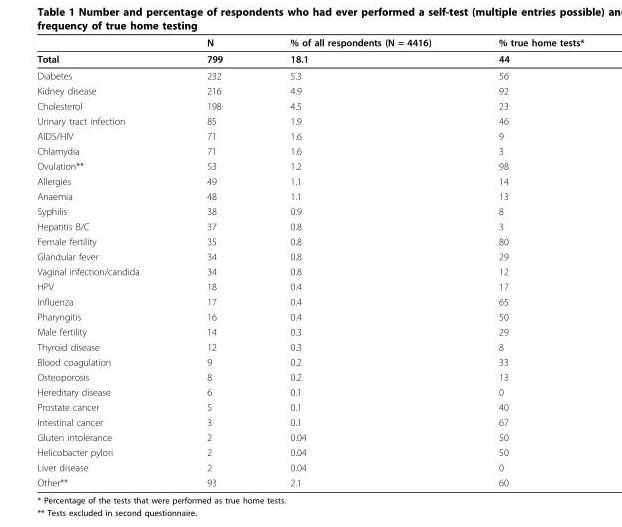table: (36, 36, 583, 487)
table column: (255, 36, 464, 487), (36, 36, 172, 487), (464, 36, 583, 487), (172, 36, 255, 487)
table column header: (36, 36, 583, 50)
table row: (36, 50, 583, 67), (36, 82, 583, 98), (36, 323, 583, 339), (36, 67, 583, 82), (36, 98, 583, 113), (36, 113, 583, 128), (36, 128, 583, 143), (36, 143, 583, 158), (36, 158, 583, 173), (36, 173, 583, 188), (36, 188, 583, 203), (36, 203, 583, 218), (36, 218, 583, 233), (36, 233, 583, 248), (36, 248, 583, 263), (36, 263, 583, 278), (36, 278, 583, 293), (36, 293, 583, 308), (36, 308, 583, 323), (36, 339, 583, 354), (36, 354, 583, 369), (36, 369, 583, 384), (36, 384, 583, 399), (36, 399, 583, 414), (36, 414, 583, 429), (36, 429, 583, 444), (36, 444, 583, 459), (36, 459, 583, 474), (36, 36, 583, 50), (36, 474, 583, 487)
